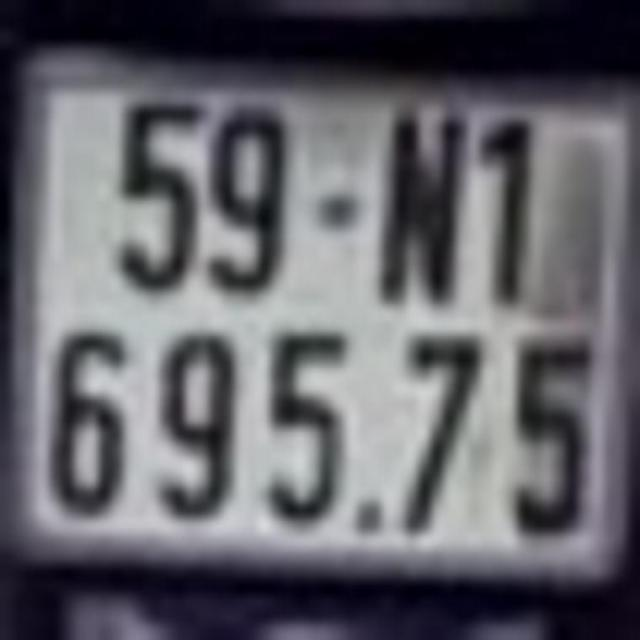1: (473, 106, 547, 304)
5: (113, 88, 203, 291), (509, 324, 596, 534), (257, 316, 344, 526)
6: (46, 322, 133, 520)
7: (384, 319, 487, 539)
9: (153, 321, 242, 529), (209, 98, 282, 295)
N: (366, 103, 465, 307)
